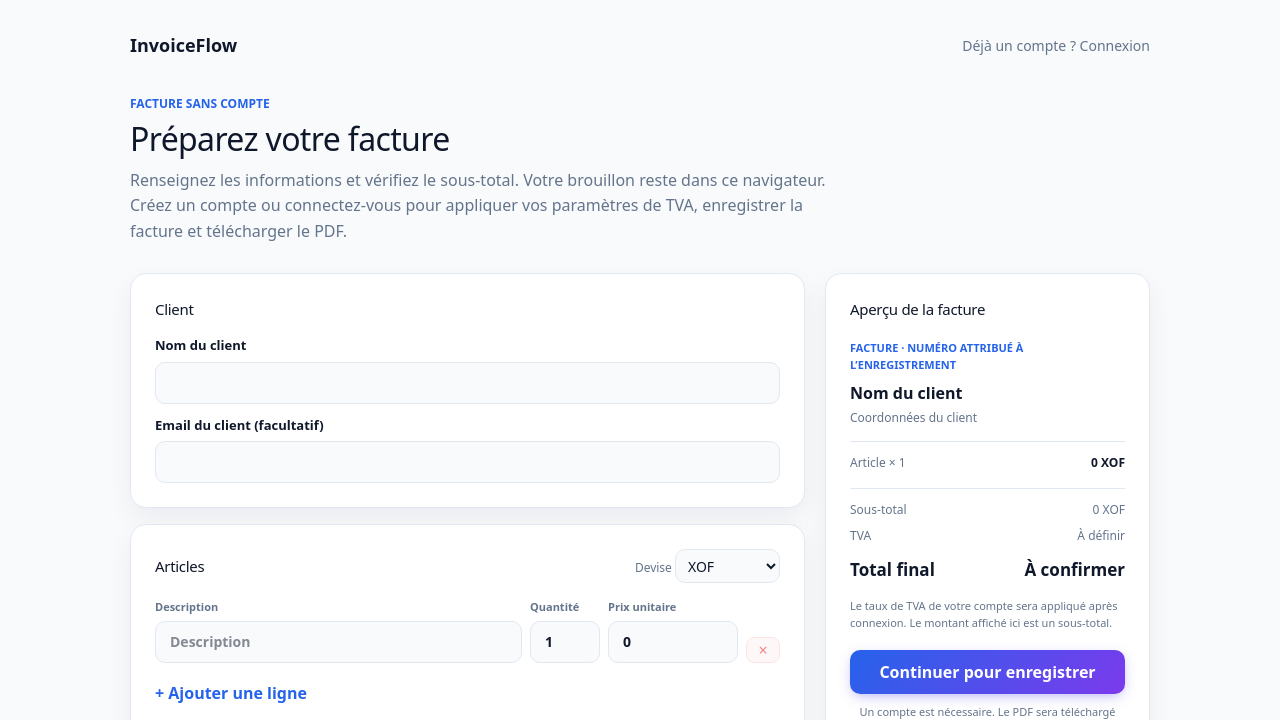
Test: GuestInvoicePage › names the exact line when a numeric field is left empty
Type "Client Exemple" into the field labelled "Nom du client" at (468, 383), box [155,362,780,404]
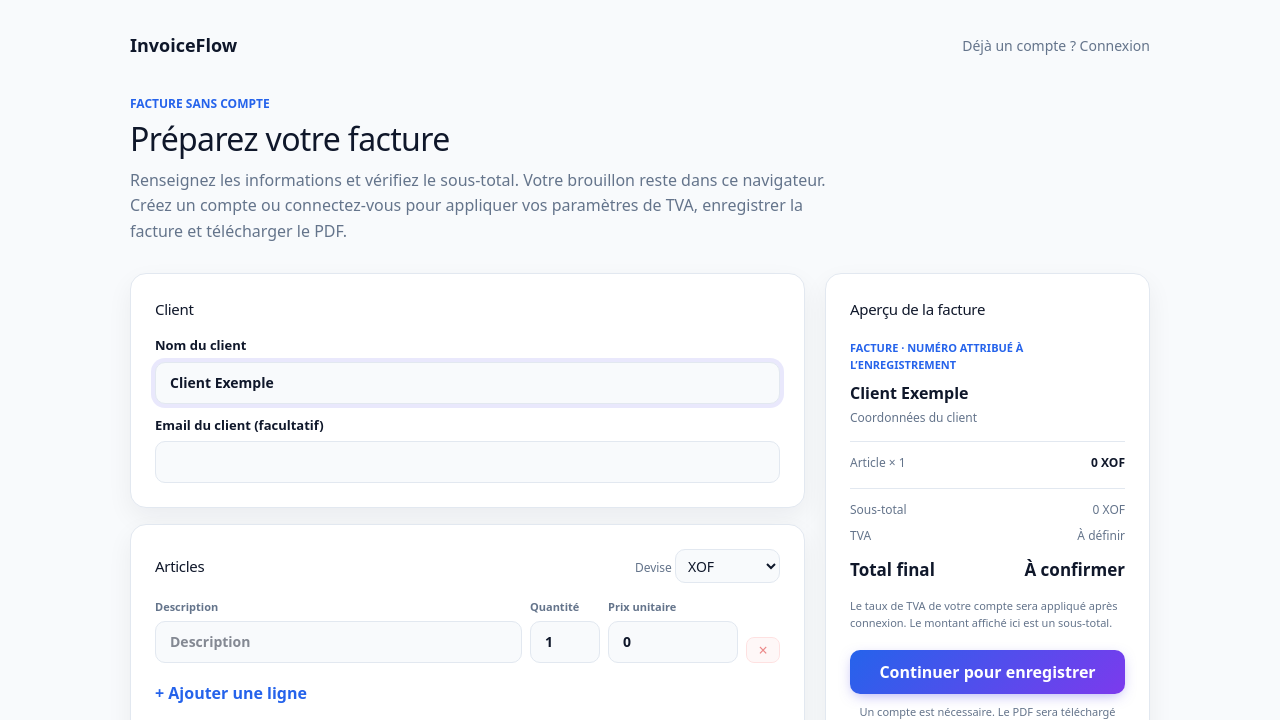
Type "Conseil" into the field named "Description article 1" at (338, 642), box [155,621,522,663]
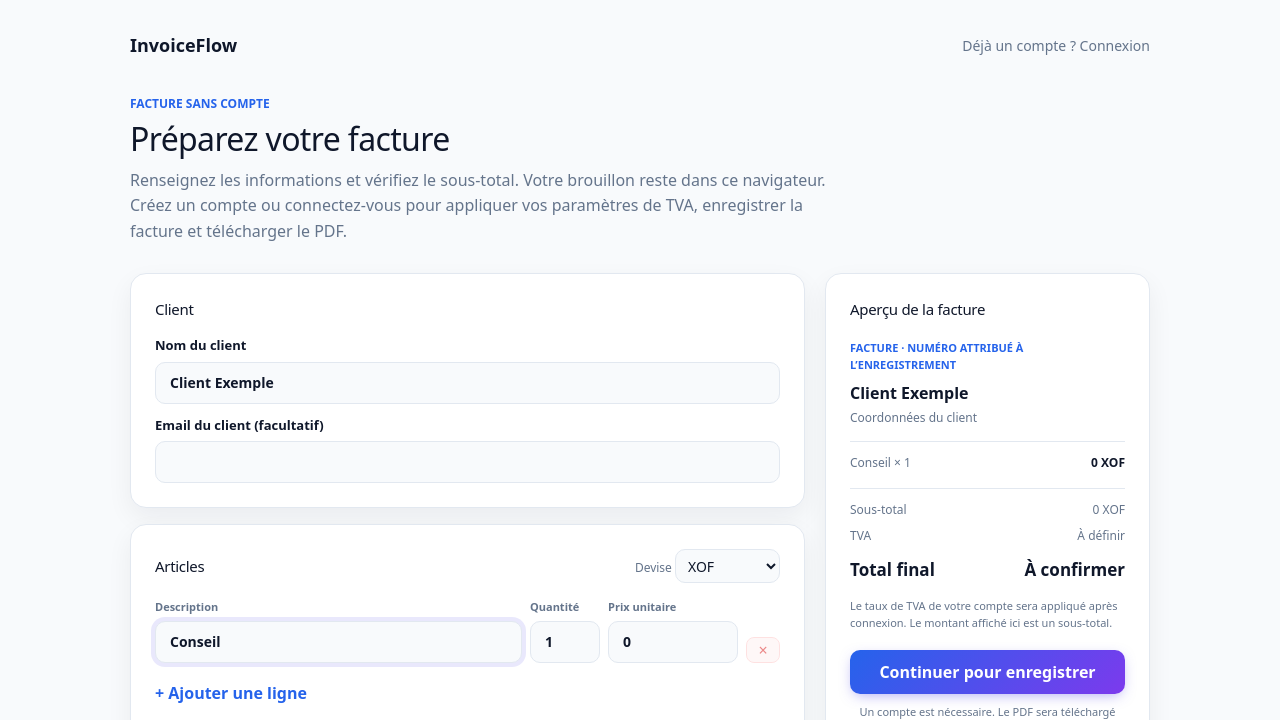
Clear the number field named "Prix article 1" at (673, 642), box [608,621,738,663]
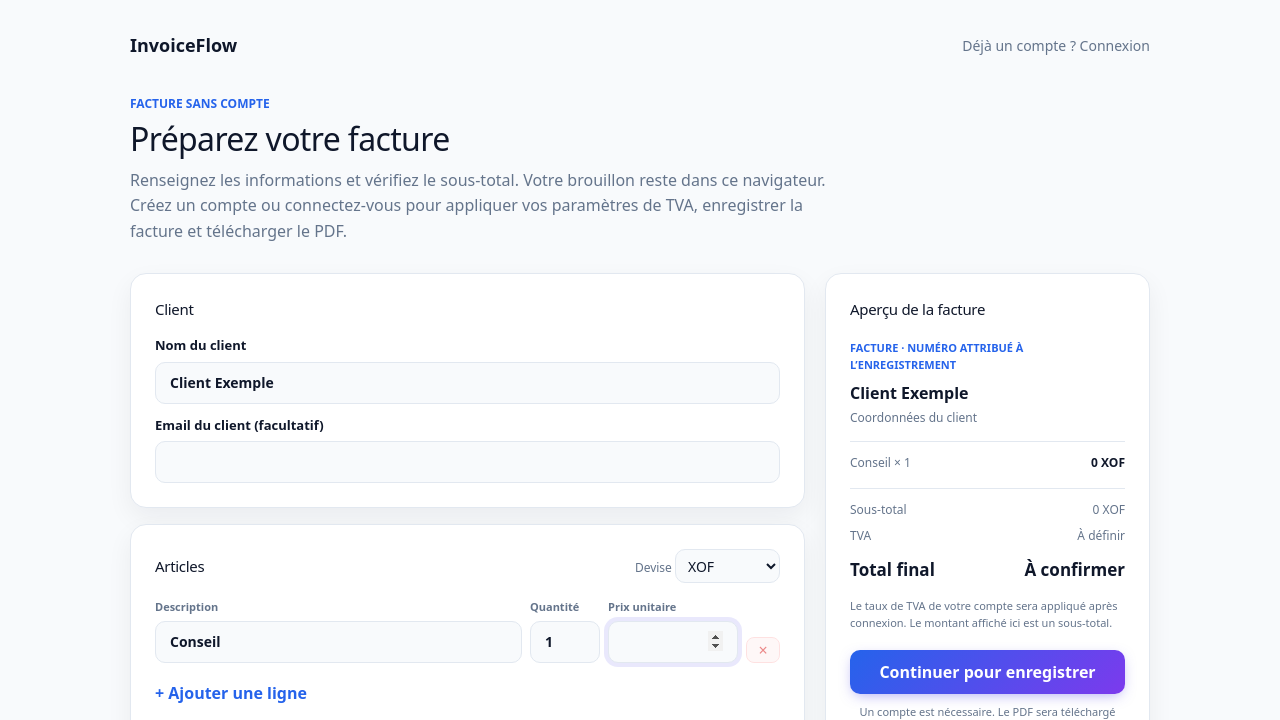
Click the button "Continuer pour enregistrer" at (988, 672), box [850,650,1125,694]
(page scrolled)
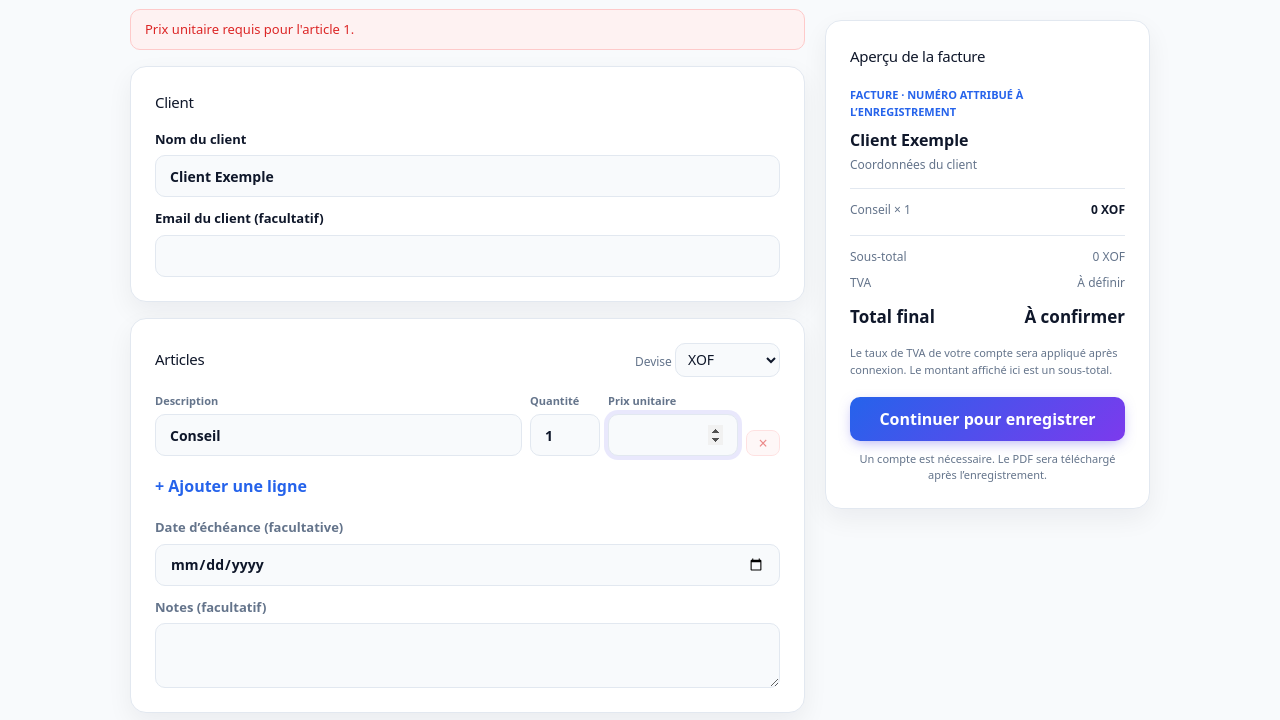
Result: the message reads "Prix unitaire requis pour l'article 1." at [145,20,354,38]
